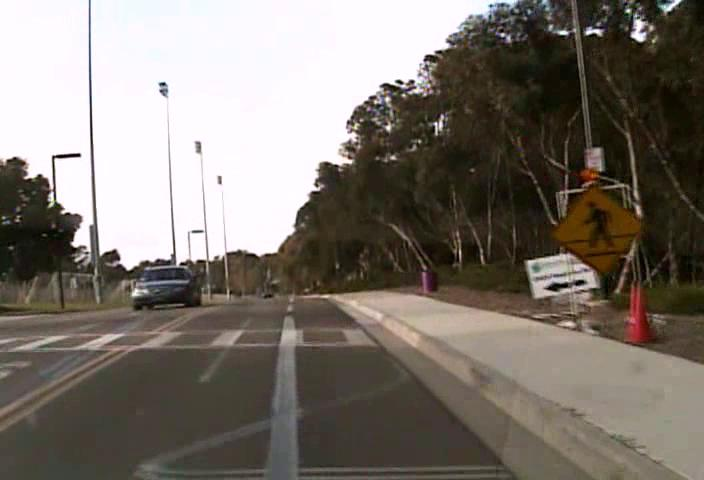pedestrianCrossing: (550, 182, 644, 275)
